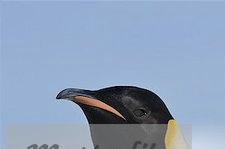Emperor Penguin: (26, 75, 225, 149), (217, 56, 225, 149)
